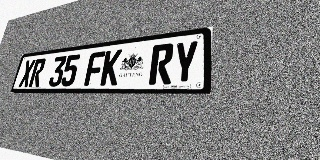3: (48, 56, 67, 87)
5: (60, 54, 81, 86)
F: (84, 51, 106, 86)
K: (100, 49, 122, 86)
R: (149, 43, 174, 85), (28, 58, 46, 87)
X: (18, 59, 36, 87)
Y: (172, 40, 199, 84)
